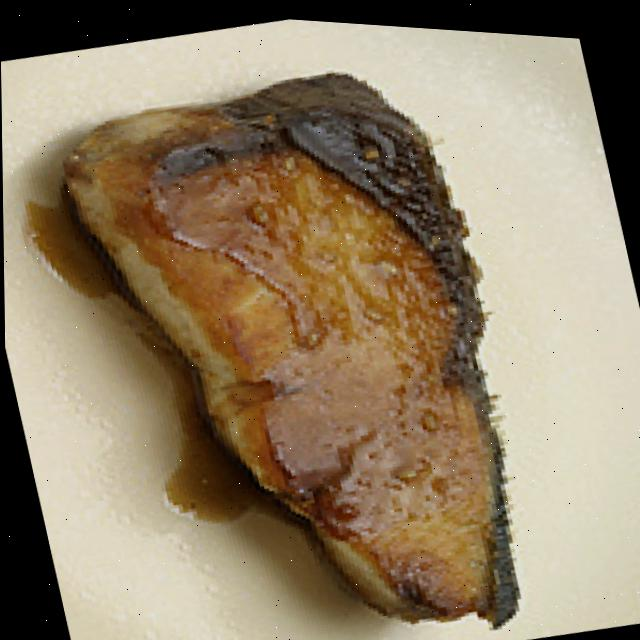熟制海鲜: (30, 2, 583, 640)
